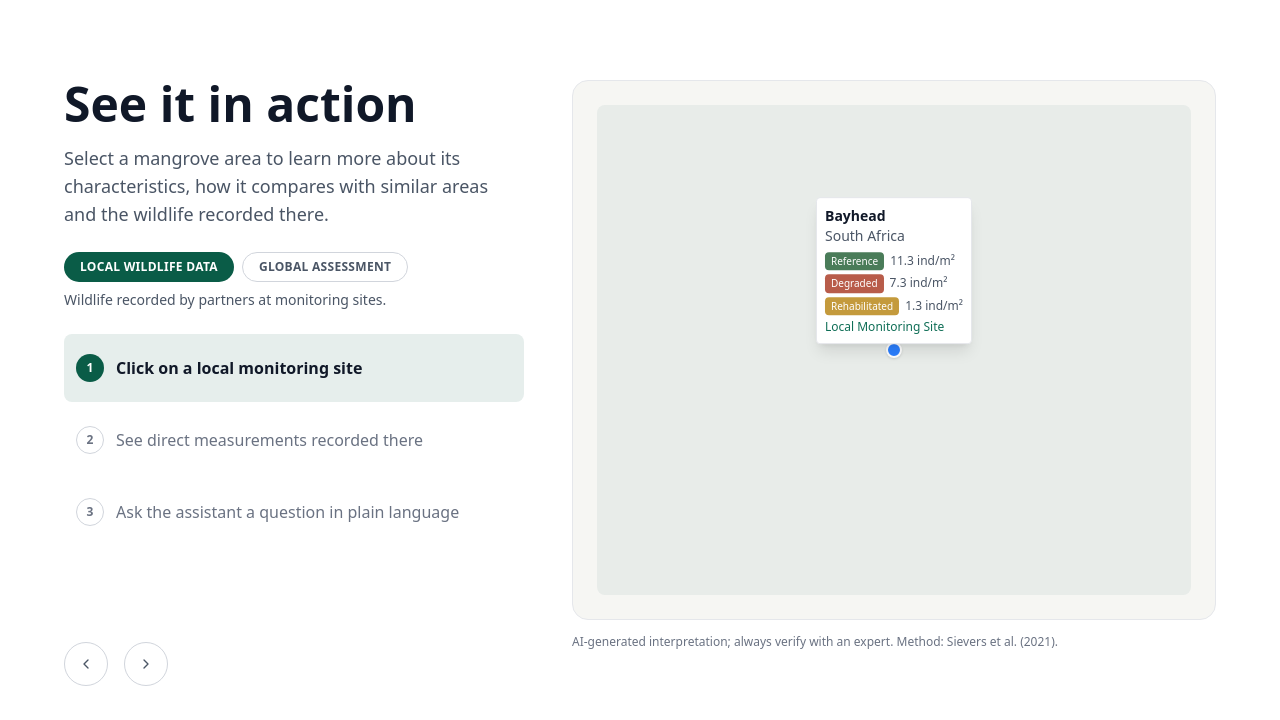
carousel assistant › shows a site-only local summary, credited to the partner, with local questions
The image size is (1280, 720).
Click the button "Ask the assistant a question in plain language" at (294, 512), box [64,478,524,546]
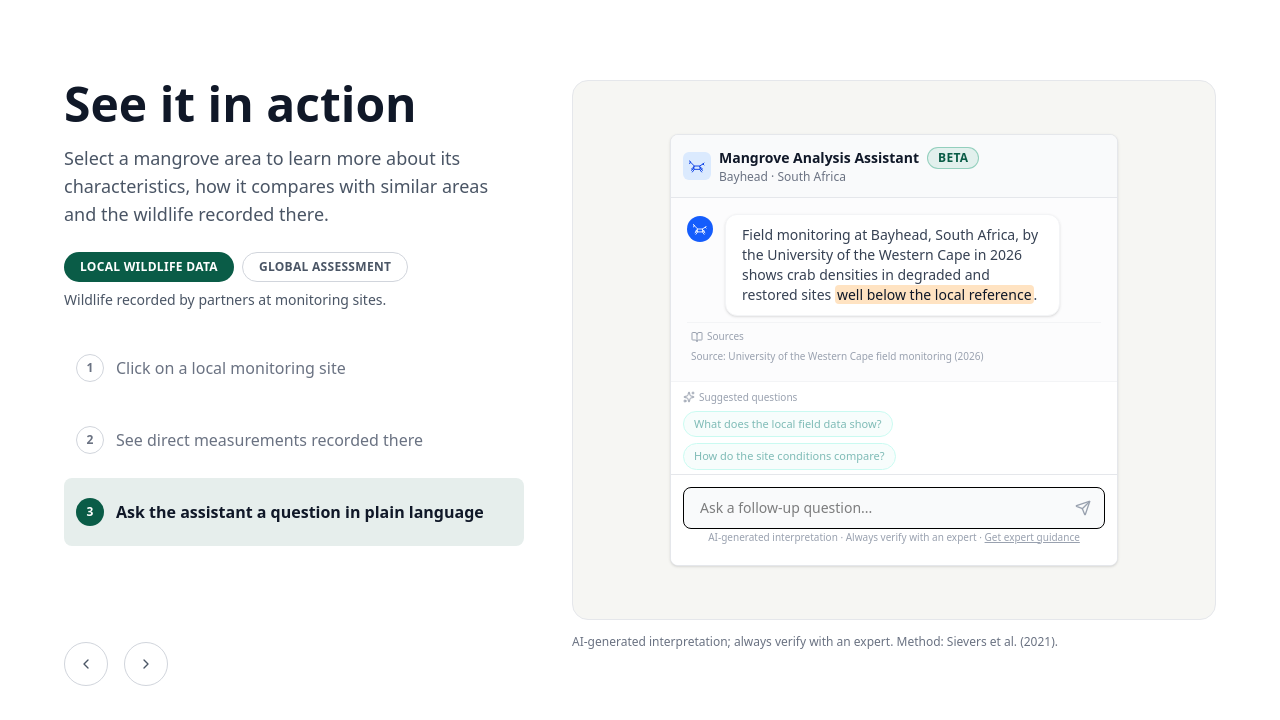
Now the text "well below the local reference" is shown, box [835,285,1034,304]
Now the text "Field monitoring at Bayhead" is shown, box [742,225,1038,304]
Now the text "Source: University of the Western Cape field monitoring (2026)" is shown, box [691,349,983,363]
